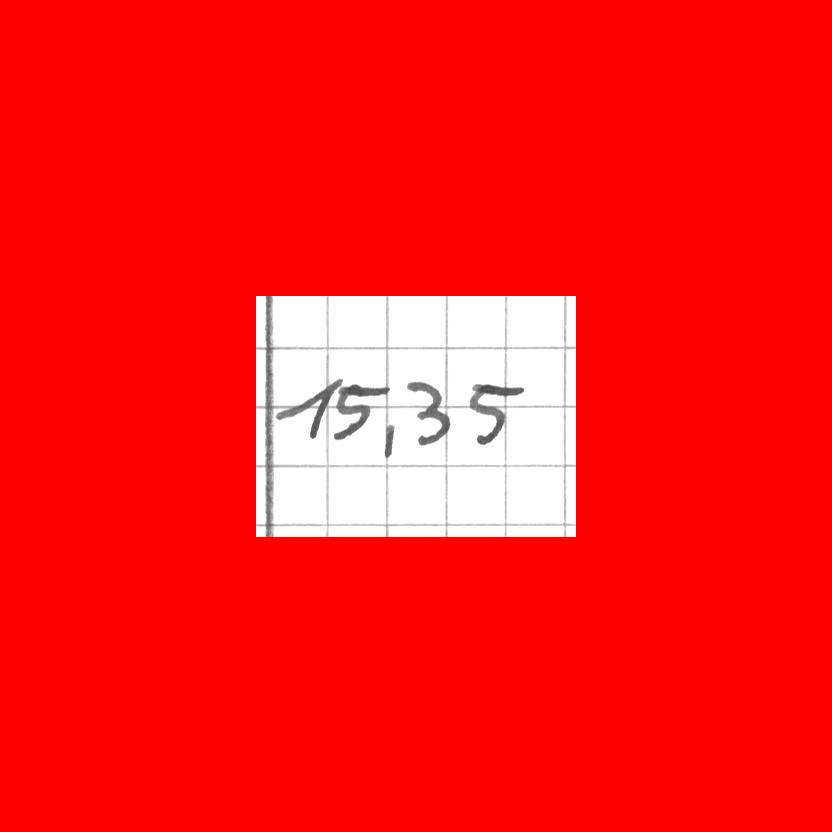Char: (278, 371, 342, 442), (467, 379, 525, 445), (332, 380, 390, 442), (407, 378, 452, 445), (379, 419, 399, 461)
